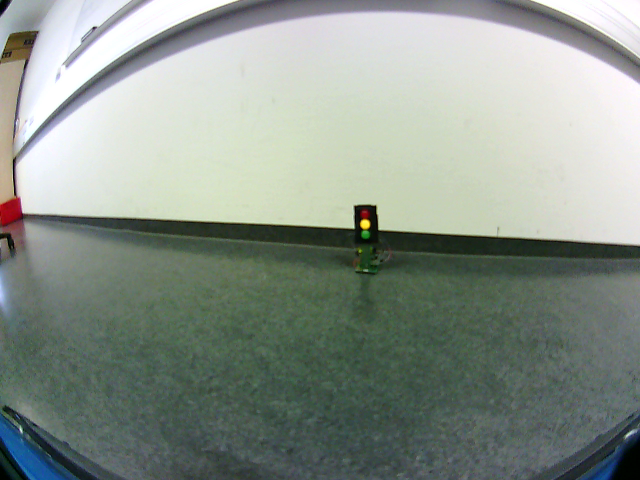yellow trafficlight: (359, 206, 372, 244)
